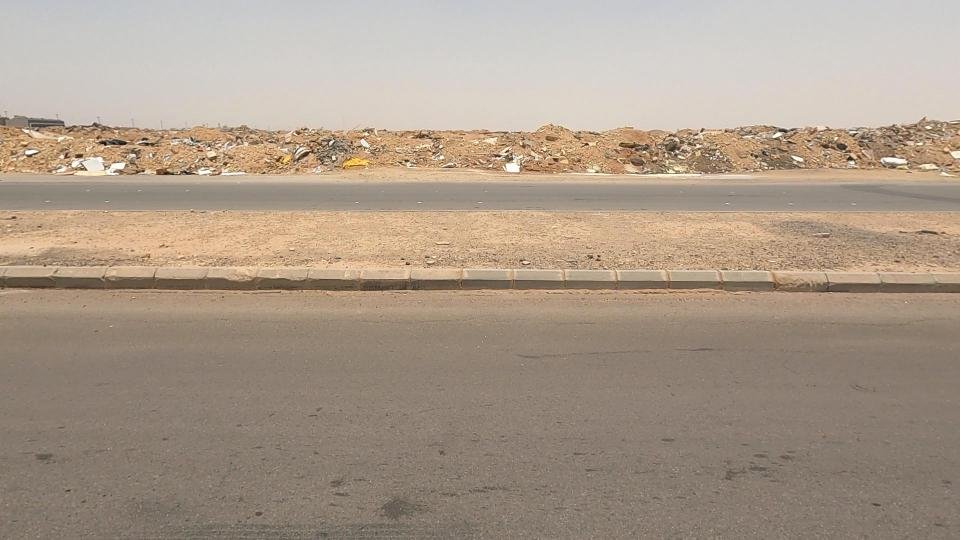CLUTTER_SIDEWALK: (0, 164, 530, 322), (299, 171, 910, 306)
GARBAGE: (230, 109, 423, 200), (567, 110, 697, 200), (441, 122, 576, 198), (7, 134, 169, 192), (825, 130, 960, 192), (614, 107, 733, 174), (154, 145, 277, 194), (739, 111, 820, 157)
